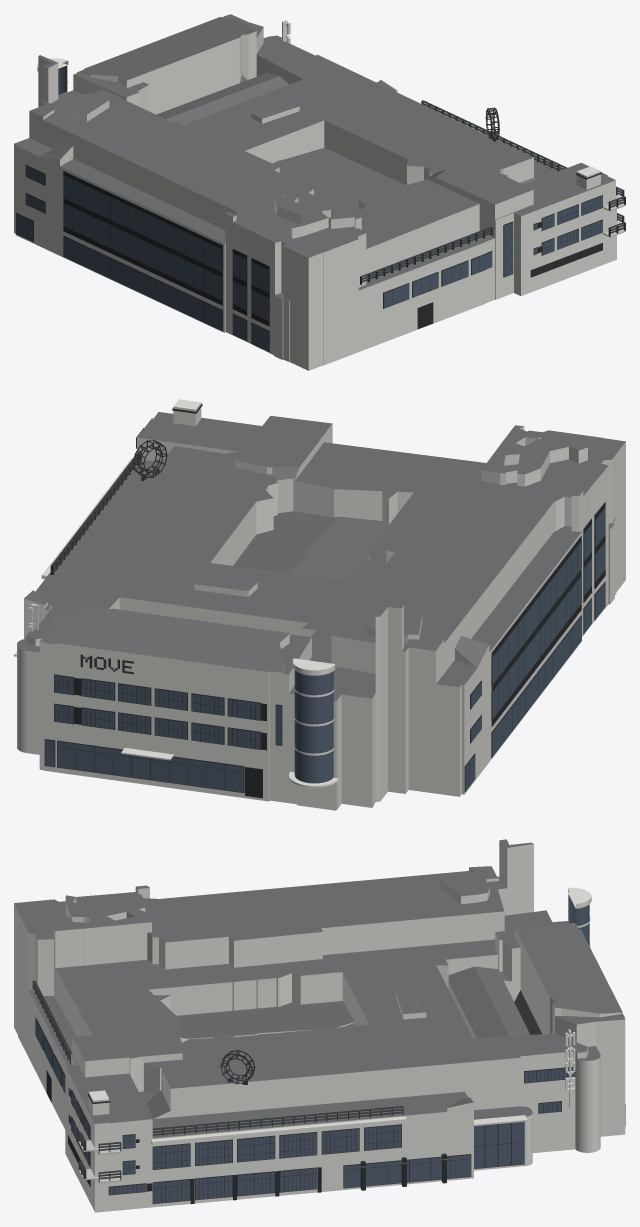
File: citroen-zuid.glb
The picture shows the model from 3 angles, top to bottom: view 1: azimuth 30°, elevation 25°; view 2: azimuth 150°, elevation 25°; view 3: azimuth 270°, elevation 25°; orthographic projection. The views are drawn at different scales.
Visible parts, largest first — view 1: citroen-zuid; view 2: citroen-zuid; view 3: citroen-zuid.
Part boxes in pixels (x1,y1,x2,y2): citroen-zuid: (14,14,625,370); citroen-zuid: (14,399,625,810); citroen-zuid: (14,839,625,1212).
Size of the model in its own units: 63.32 by 20.97 by 70.09.
